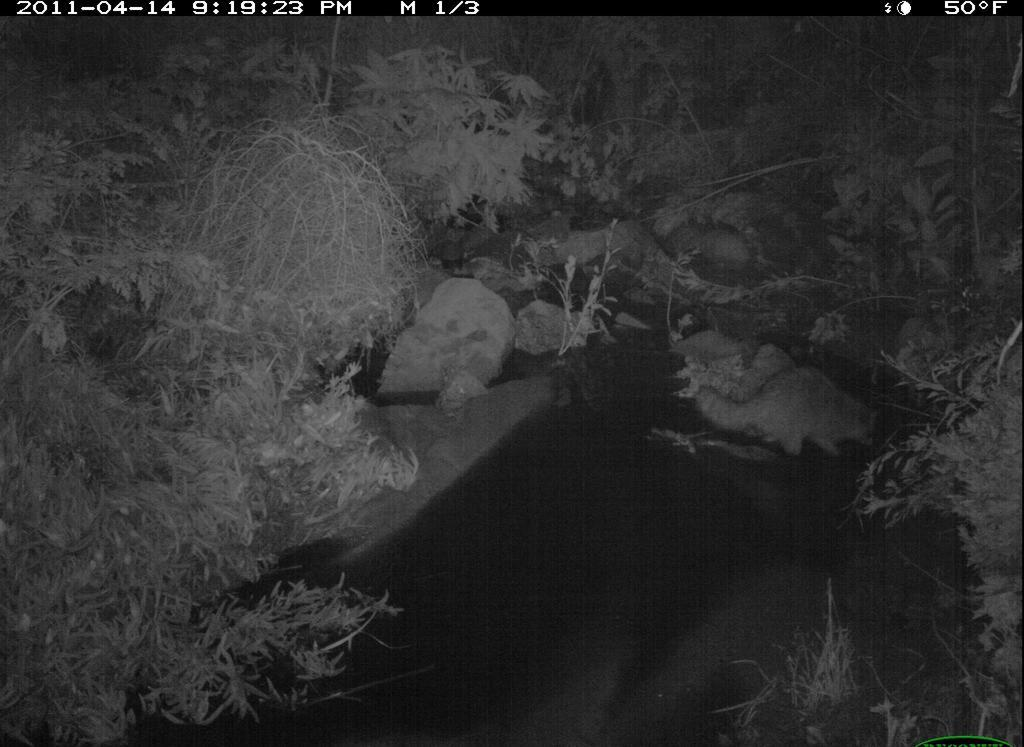raccoon: (688, 337, 881, 491)
